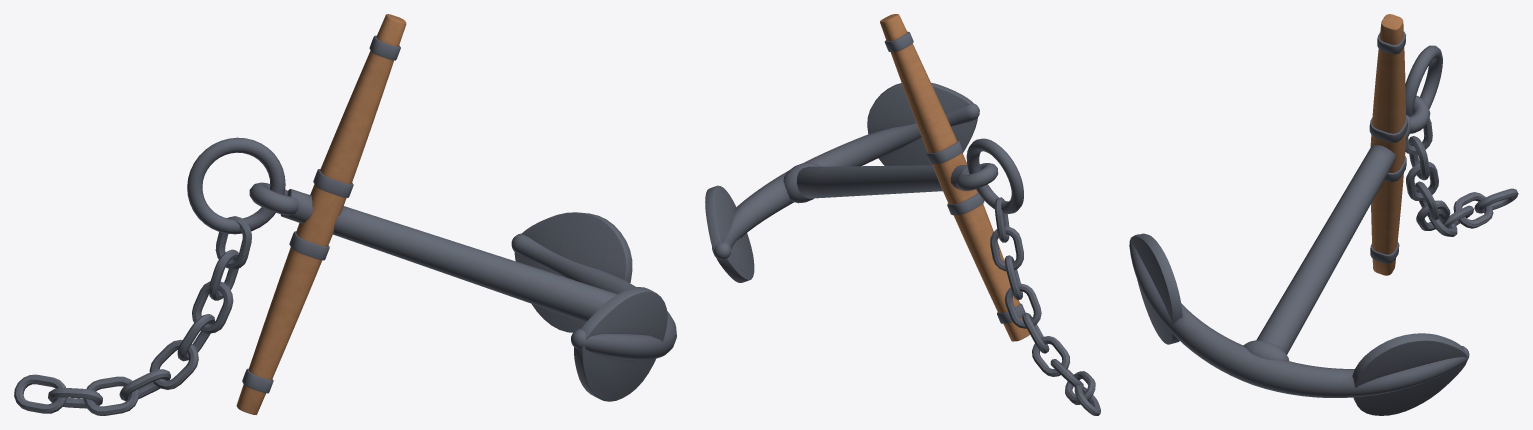
File: ancla.glb
3 renders of one model, left to right at view 1: azimuth 30°, elevation 25°; view 2: azimuth 150°, elevation 25°; view 3: azimuth 270°, elevation 25°, orthographic. The views are drawn at different scales.
Parts seen in each view (by area): view 1: ship-anchor_body; view 2: ship-anchor_body; view 3: ship-anchor_body.
Boxes of the visible parts, x1=… form: ship-anchor_body: x1=14, y1=14, x2=676, y2=415; ship-anchor_body: x1=705, y1=14, x2=1100, y2=415; ship-anchor_body: x1=1129, y1=14, x2=1518, y2=415.
Size of the model in its own units: 1.92 by 1.24 by 1.35.
1 material, 1 textured.
